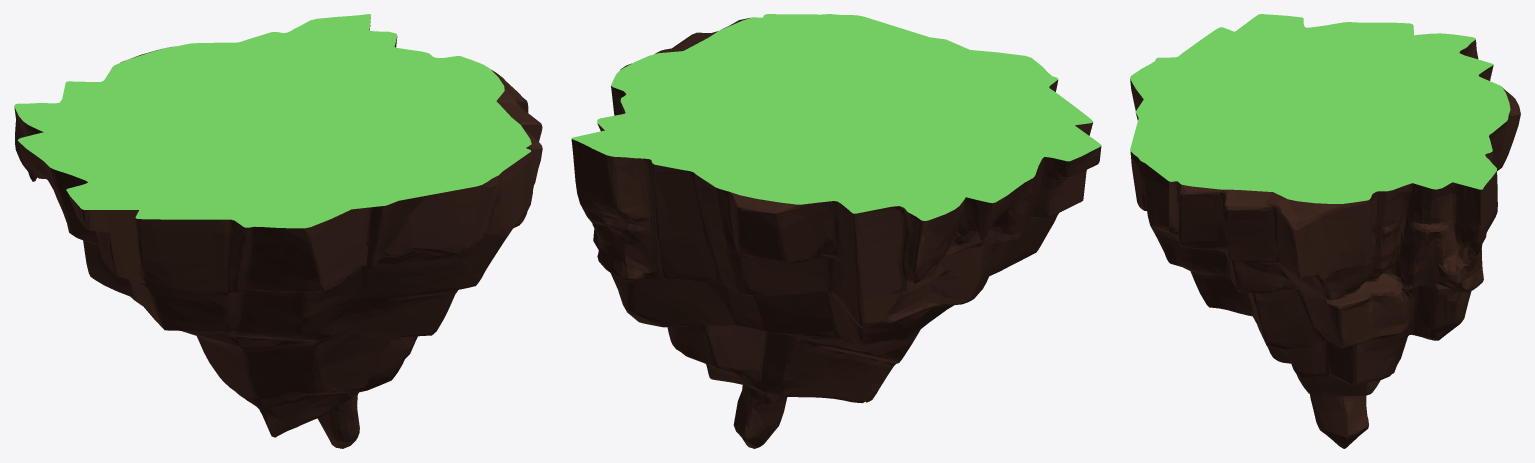
Rendered from FloatingIsland.fbx.
3 views of the same model, side by side, from view 1: azimuth 30°, elevation 25°; view 2: azimuth 150°, elevation 25°; view 3: azimuth 270°, elevation 25° (orthographic). The views are drawn at different scales.
Parts seen in each view (by area): view 1: Floating Race Track; view 2: Floating Race Track; view 3: Floating Race Track.
Part boxes in pixels (bbox=[...]): Floating Race Track: bbox=[14, 14, 542, 448]; Floating Race Track: bbox=[571, 14, 1101, 448]; Floating Race Track: bbox=[1130, 14, 1520, 448].
Bounding box in the file's own units: 1.75 × 1.26 × 1.47.
